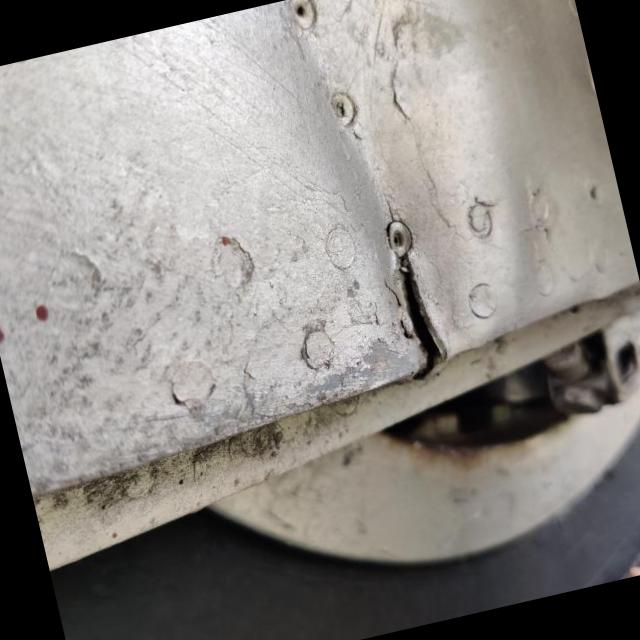Crack: (399, 254, 448, 380)
